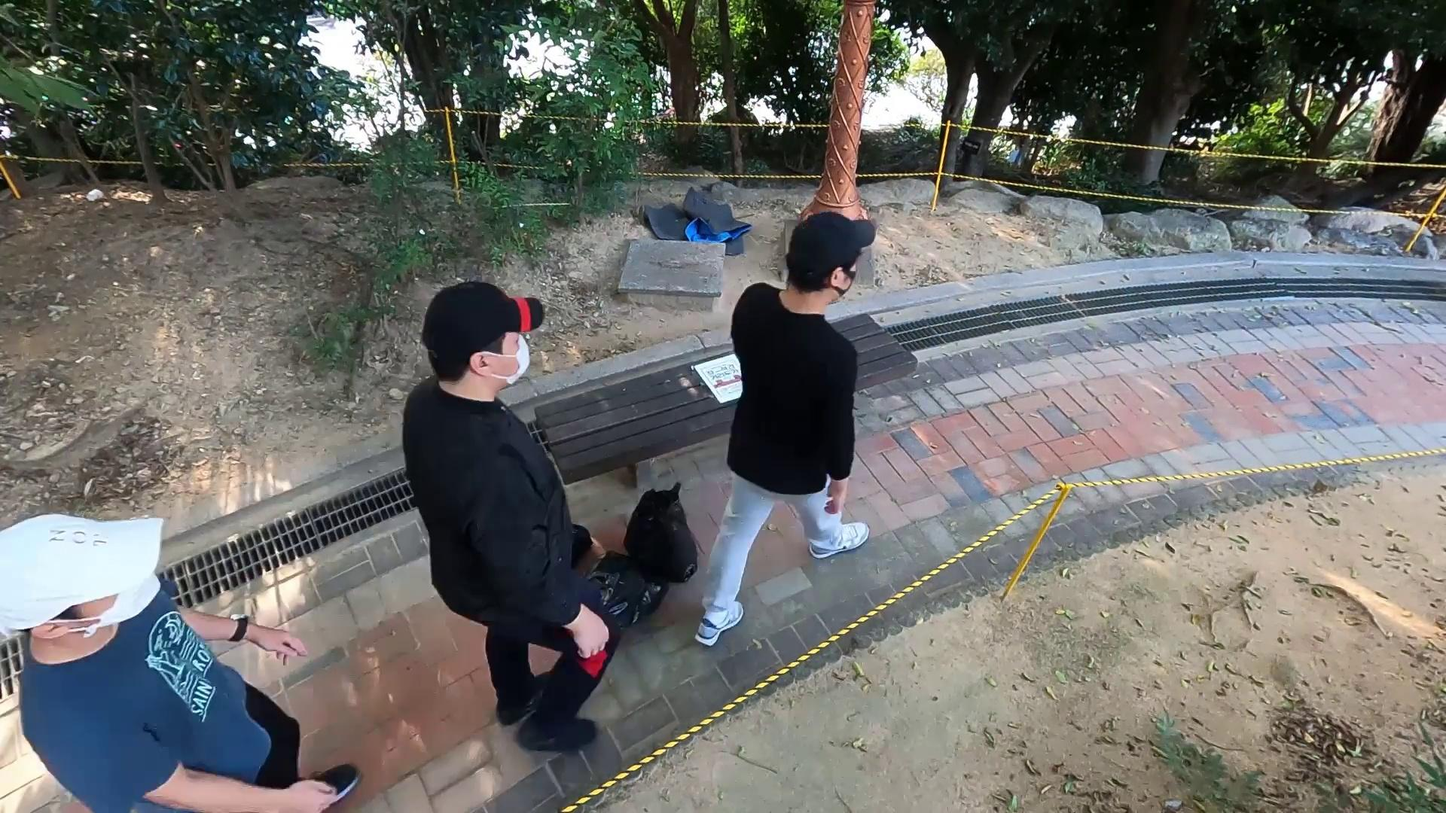person: (0, 493, 370, 813), (395, 279, 627, 767), (680, 203, 894, 655)
trash: (570, 538, 672, 647), (616, 482, 704, 586), (635, 183, 752, 261)
